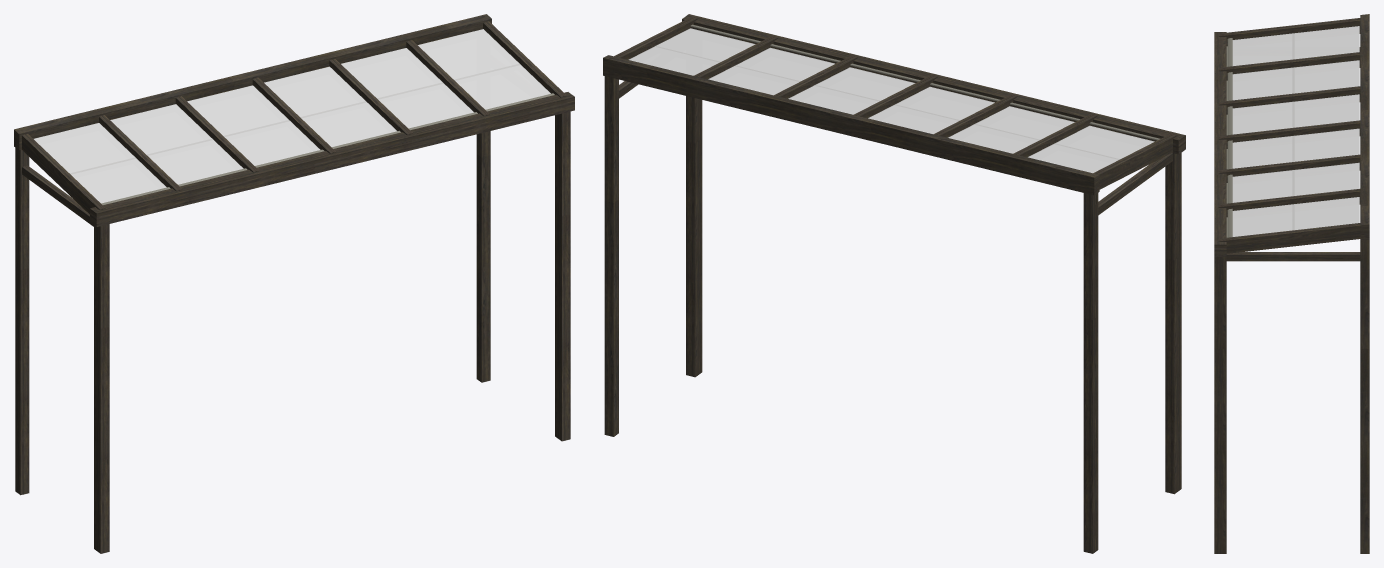
Rendered from sp-dokuritu_2k-4s_blackebony.fbx.
3 renders of one model, left to right at view 1: azimuth 30°, elevation 25°; view 2: azimuth 150°, elevation 25°; view 3: azimuth 270°, elevation 25°, orthographic. The views are drawn at different scales.
Visible parts, largest first — view 1: sp-dokuritu_2k-4s_blackebony; view 2: sp-dokuritu_2k-4s_blackebony; view 3: sp-dokuritu_2k-4s_blackebony.
Part boxes in pixels (left/top/right/bottom): sp-dokuritu_2k-4s_blackebony: left=14, top=14, right=574, bottom=553; sp-dokuritu_2k-4s_blackebony: left=603, top=14, right=1185, bottom=553; sp-dokuritu_2k-4s_blackebony: left=1214, top=14, right=1369, bottom=553.
Bounding box in the file's own units: 404 × 293 × 125.
Materials: 3 (2 with a texture image).
